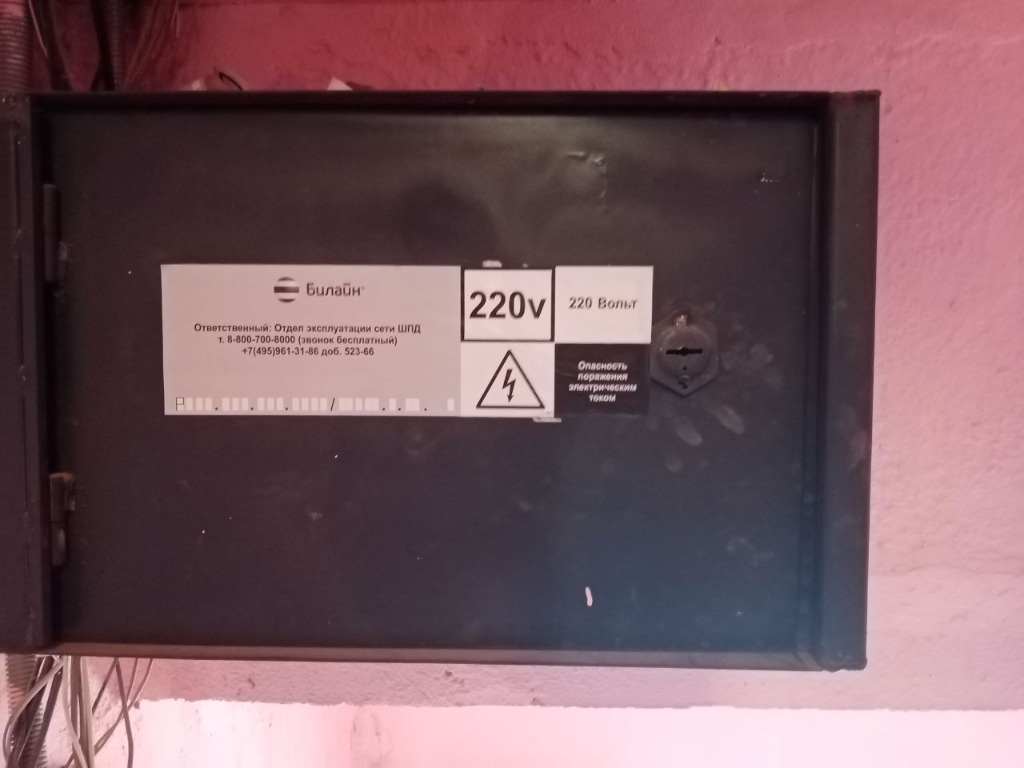e2-6u: (1, 79, 888, 678)
